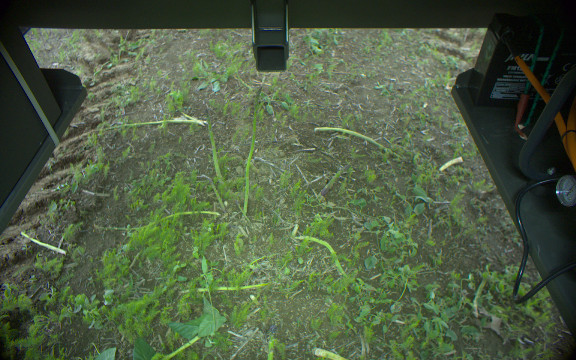aspa: (242, 85, 264, 217), (202, 107, 225, 186), (319, 161, 351, 197), (263, 323, 278, 360)
